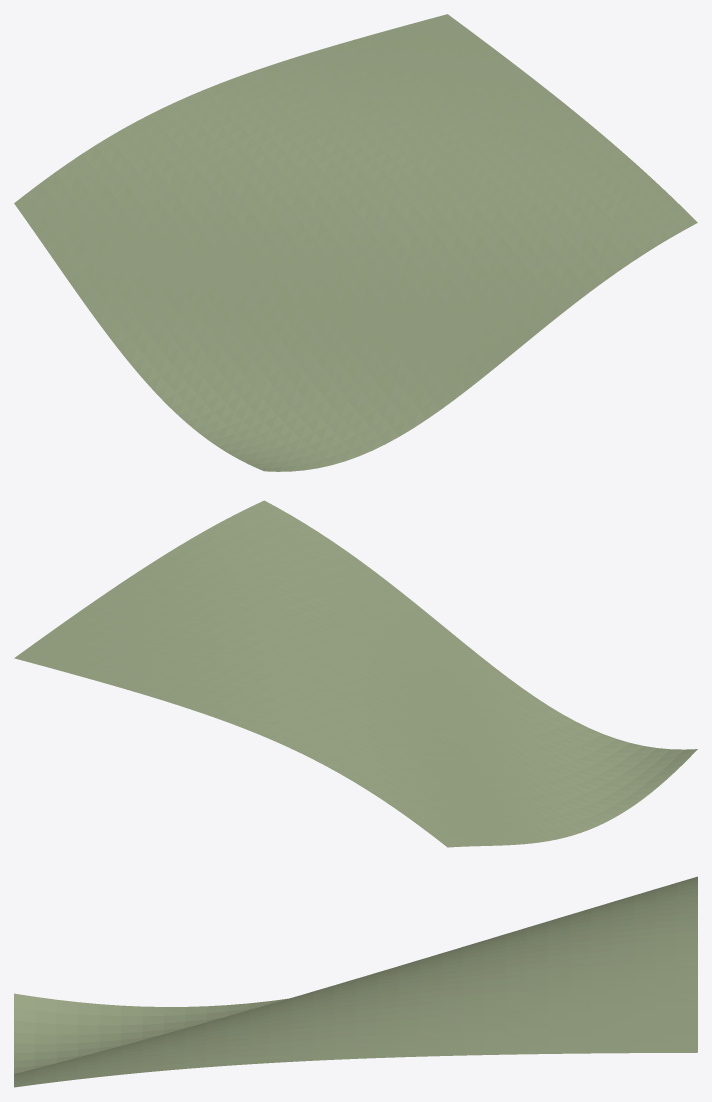
Rendered from expanse-15-0.glb.
The picture shows the model from 3 angles, top to bottom: view 1: azimuth 30°, elevation 25°; view 2: azimuth 150°, elevation 25°; view 3: azimuth 270°, elevation 25°; orthographic projection. The views are drawn at different scales.
Visible parts, largest first — view 1: expanse-15-0; view 2: expanse-15-0; view 3: expanse-15-0.
Part boxes in pixels (<box>): expanse-15-0: <box>14,14,697,471</box>; expanse-15-0: <box>14,500,697,847</box>; expanse-15-0: <box>14,876,697,1087</box>.
Size of the model in its own units: 256 by 101 by 256.
